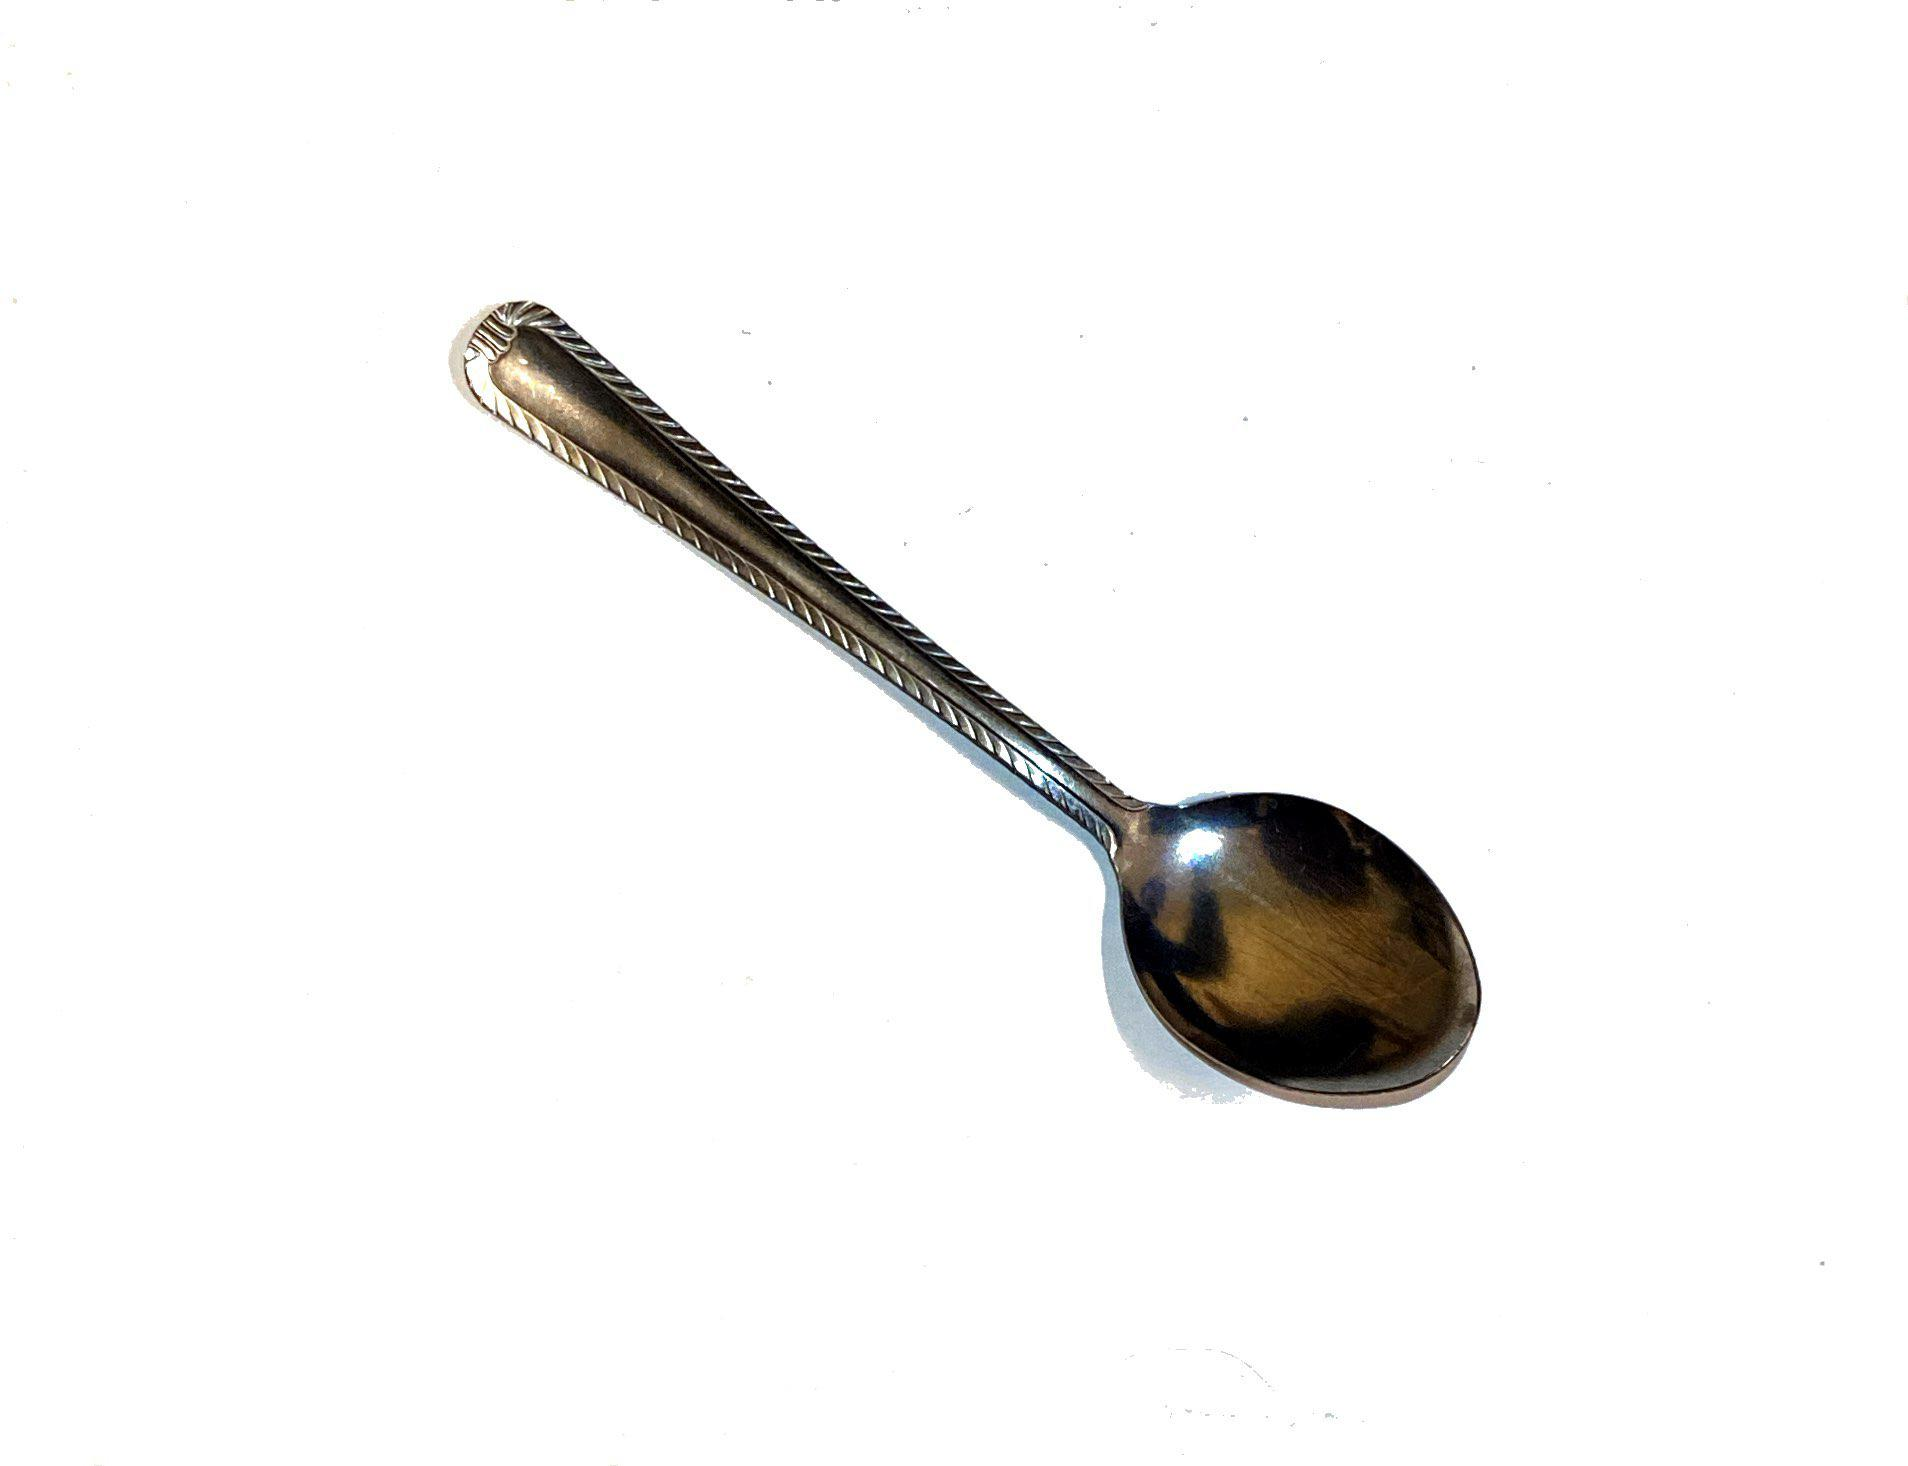Spoon: (410, 146, 1608, 1175)
